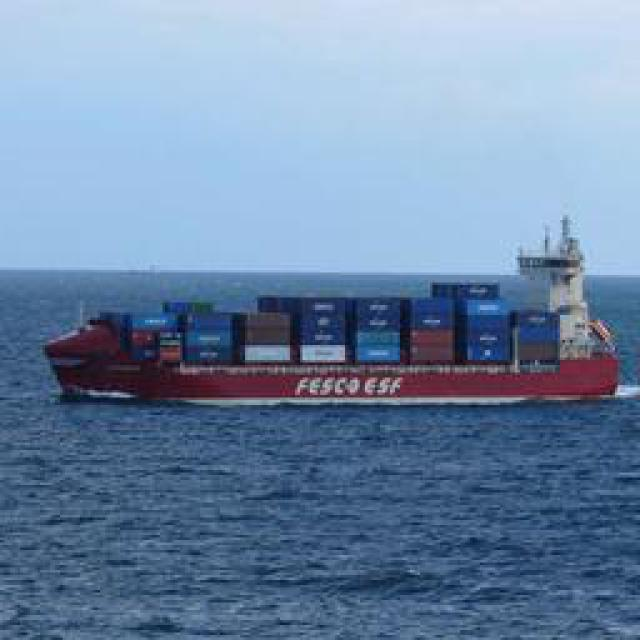Ship: (35, 244, 623, 409)
